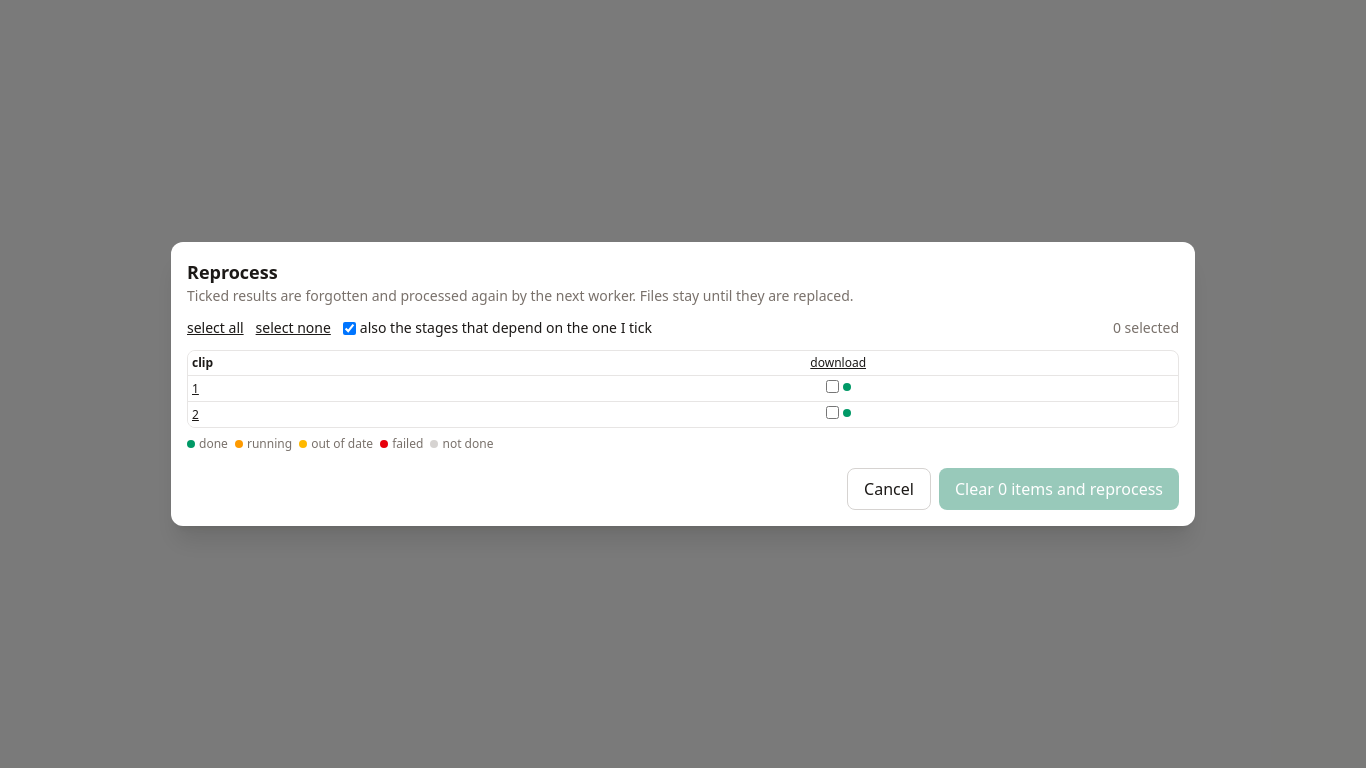
Scenario: RedoDialog › handles "select all" and "select none" buttons
The width and height of the screenshot is (1366, 768).
Expected: the text "0 selected" is shown, [1113,318,1179,338]
Step 1. Click the button "select all" → {"x": 215, "y": 328}, box [187,318,244,338]
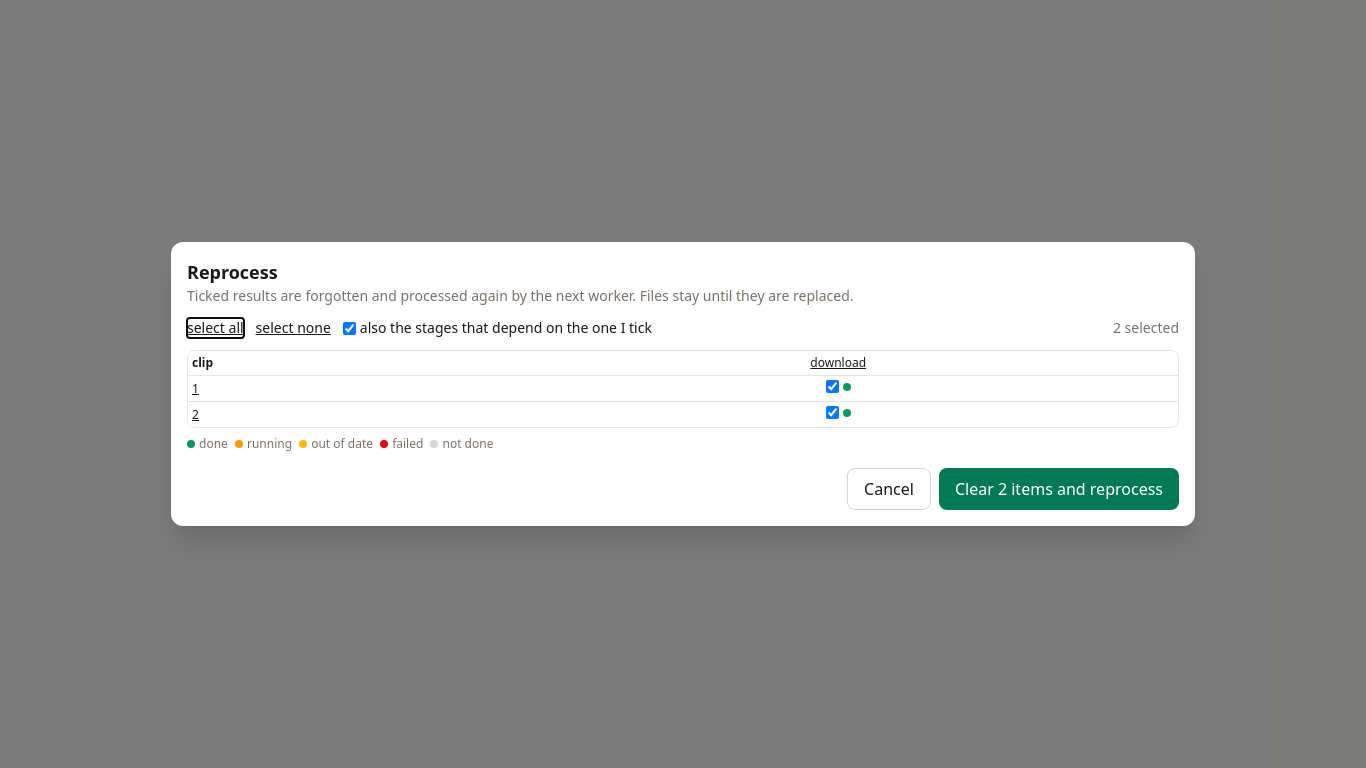
Expected: the text "2 selected" is shown, [1113,318,1179,338]
Step 2. Click the button "select none" → {"x": 293, "y": 328}, box [256,318,331,338]
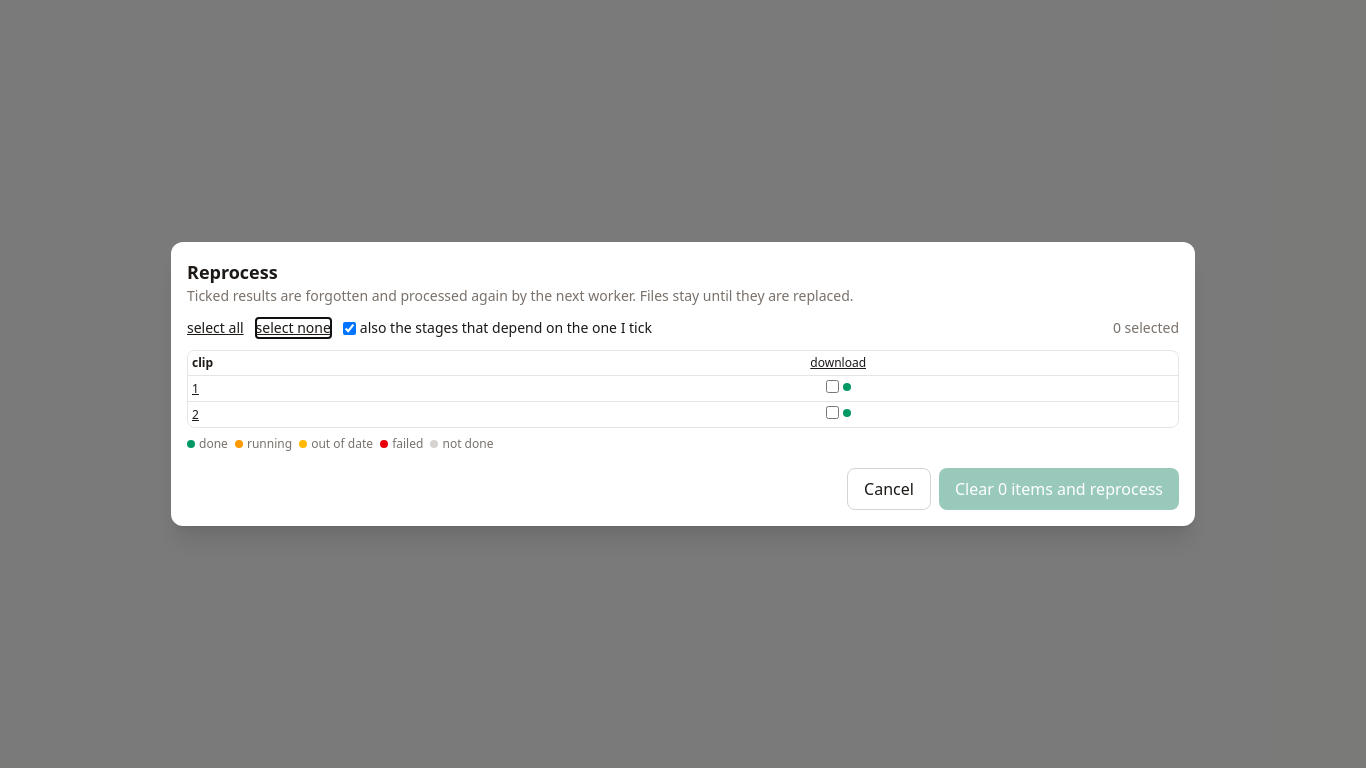
Expected: the text "0 selected" is shown, [1113,318,1179,338]
